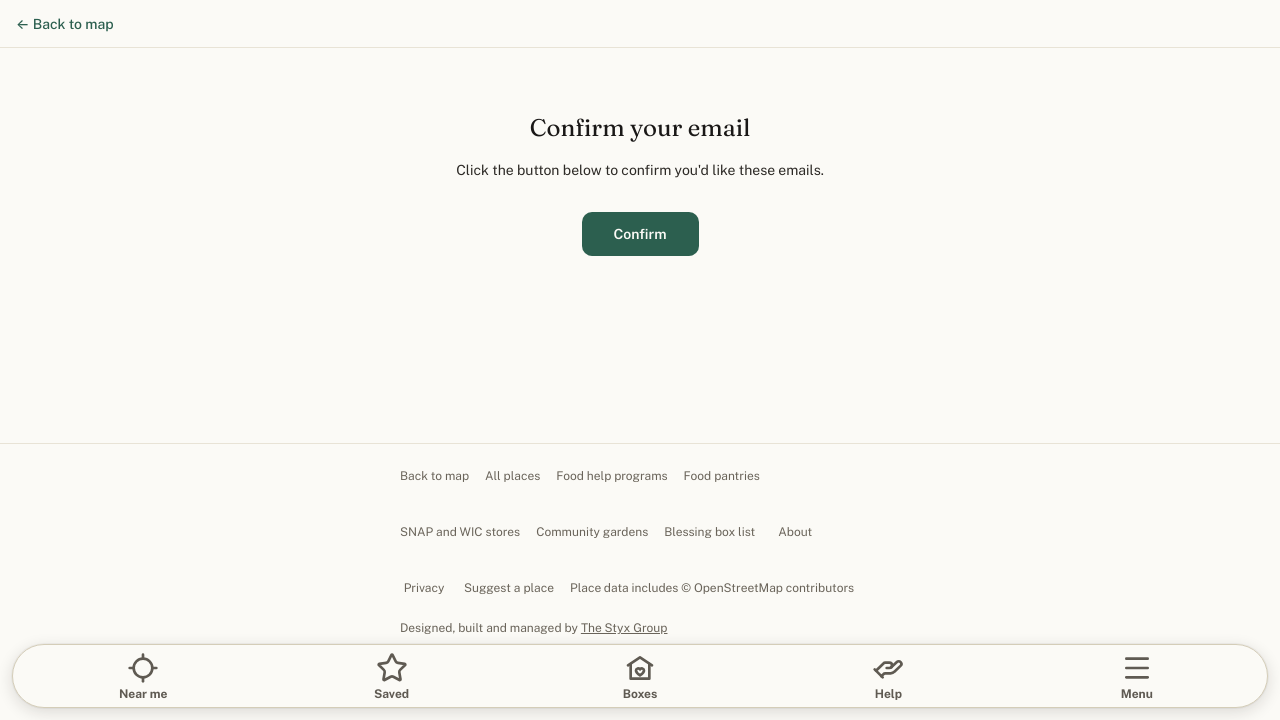
Scenario: AlertsConfirmContent › with a token, shows the Confirm button and posts the token on click
Expected: the text "Click the button below to confirm you'd like these emails." is shown, [432,160,848,180]
Click the button "Confirm" at (640, 234), box [582,212,698,256]
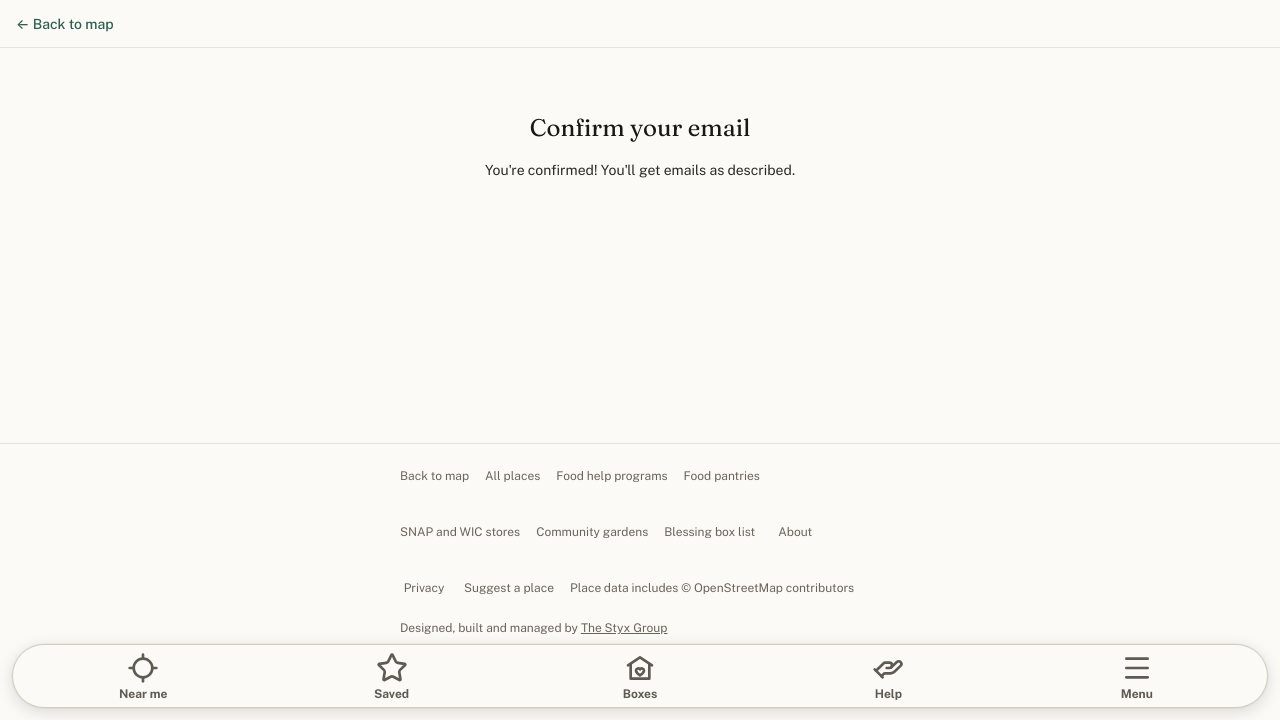
Expected: the text "You're confirmed! You'll get emails as described." is shown, [485,162,795,178]
